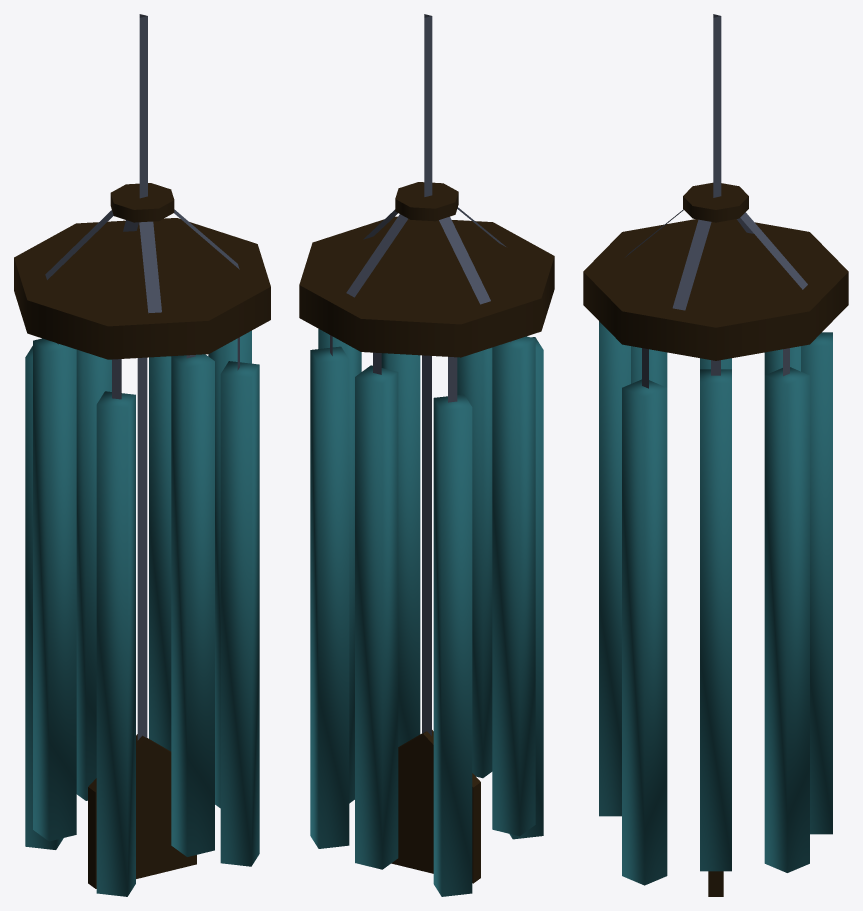
The model's file is Bell1.fbx.
The picture shows the model from 3 angles, left to right: view 1: azimuth 30°, elevation 25°; view 2: azimuth 150°, elevation 25°; view 3: azimuth 270°, elevation 25°; orthographic projection.
Visible parts, largest first — view 1: BellMain, BellTube, Куб.008, Куб.003, Куб.009, Куб.006, Куб.005, Куб.001, Куб.007, Плоскость, Куб.004, Bell1; view 2: BellMain, Куб.006, Куб.008, Куб.005, Куб.007, BellTube, Куб.003, Куб.001, Куб.009, Плоскость, Куб.004, Bell1; view 3: BellMain, Куб.003, Куб.005, Куб.004, Куб.006, BellTube, Bell1, Куб.009, Куб.007.
Part boxes in pixels (left/top/right/bottom): BellMain: left=14, top=183, right=270, bottom=359; BellTube: left=171, top=354, right=214, bottom=856; Куб.008: left=33, top=338, right=76, bottom=841; Куб.003: left=220, top=361, right=259, bottom=866; Куб.009: left=96, top=391, right=135, bottom=896; Куб.006: left=76, top=349, right=111, bottom=800; Куб.005: left=149, top=356, right=171, bottom=751; Куб.001: left=88, top=734, right=196, bottom=888; Куб.007: left=25, top=346, right=63, bottom=849; Плоскость: left=137, top=357, right=147, bottom=740; Куб.004: left=208, top=330, right=251, bottom=808; Bell1: left=139, top=14, right=147, bottom=198; BellMain: left=299, top=182, right=554, bottom=357; Куб.006: left=355, top=365, right=398, bottom=869; Куб.008: left=492, top=336, right=535, bottom=836; Куб.005: left=310, top=346, right=349, bottom=848; Куб.007: left=433, top=394, right=472, bottom=896; BellTube: left=457, top=347, right=492, bottom=778; Куб.003: left=381, top=353, right=420, bottom=746; Куб.001: left=391, top=730, right=480, bottom=883; Куб.009: left=509, top=337, right=543, bottom=839; Плоскость: left=422, top=355, right=431, bottom=735; Куб.004: left=318, top=328, right=361, bottom=803; Bell1: left=424, top=14, right=432, bottom=196; BellMain: left=583, top=182, right=848, bottom=360; Куб.003: left=622, top=379, right=667, bottom=885; Куб.005: left=764, top=367, right=809, bottom=872; Куб.004: left=700, top=369, right=731, bottom=871; Куб.006: left=801, top=332, right=832, bottom=834; BellTube: left=599, top=321, right=630, bottom=816; Bell1: left=713, top=14, right=721, bottom=197; Куб.009: left=631, top=346, right=667, bottom=387; Куб.007: left=764, top=346, right=800, bottom=374.
Size of the model in its own units: 22.9 by 81.47 by 22.9.
